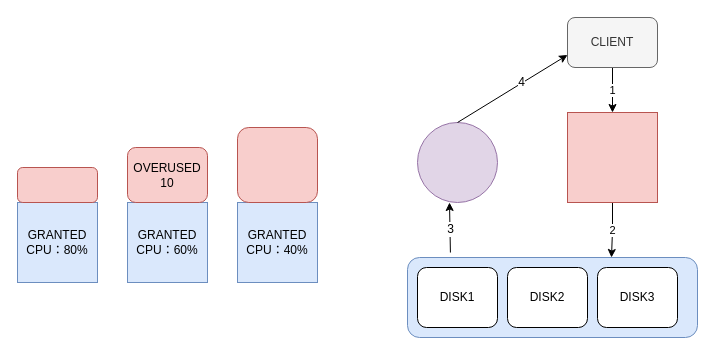
This 715x355 diagram has some shape labels left out. Here are the shapes that lost their labels. From the top down, the centre of each, then its label:
At (277,164): "OVERUSED 20".
At (457,162): "CACHE".
At (612,157): "SHUFFLE SERVICE".
At (57,184): "OVERUSED 0".
